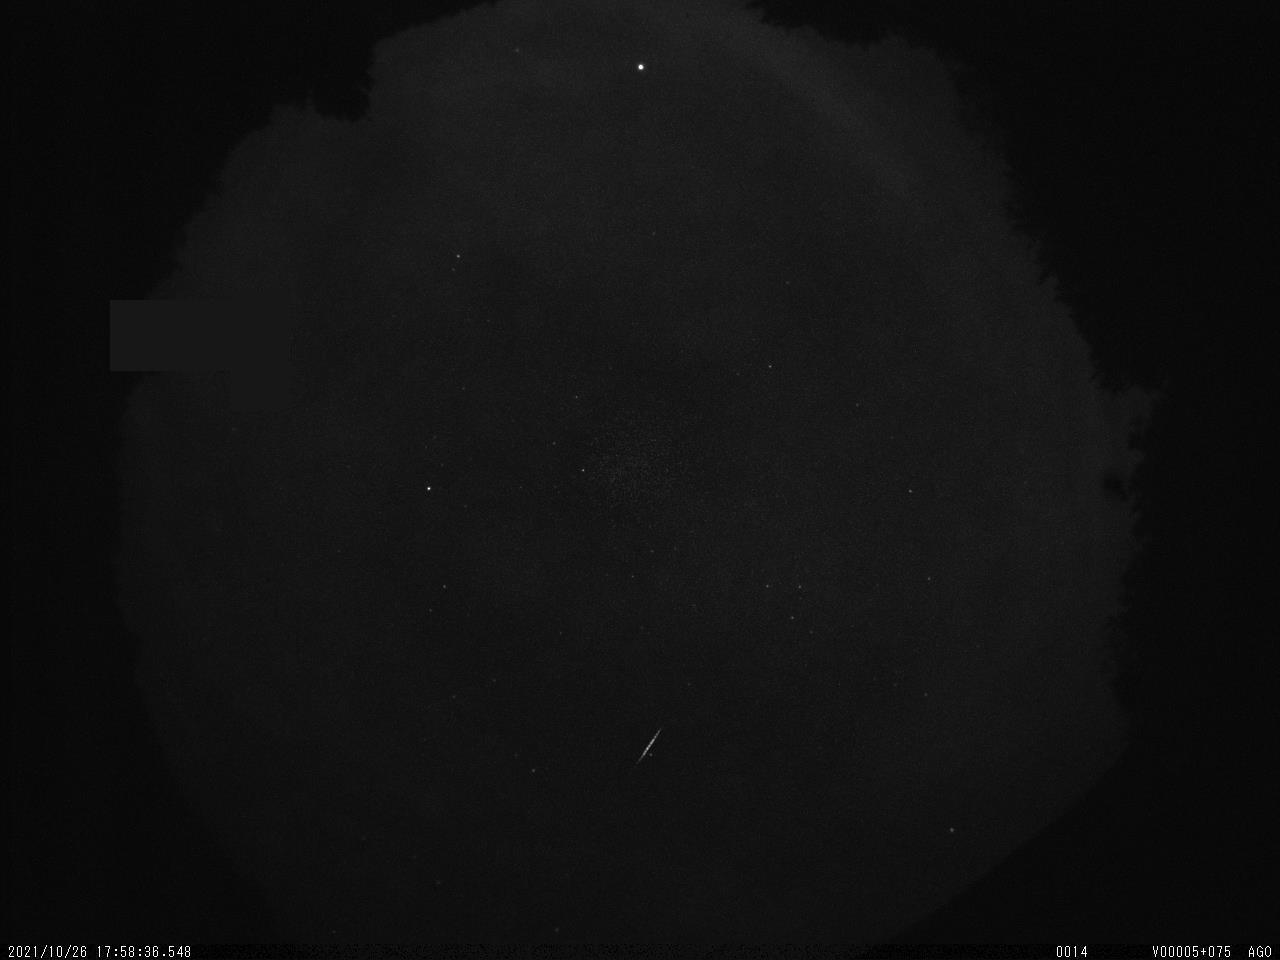meteor: (626, 719, 666, 768)
